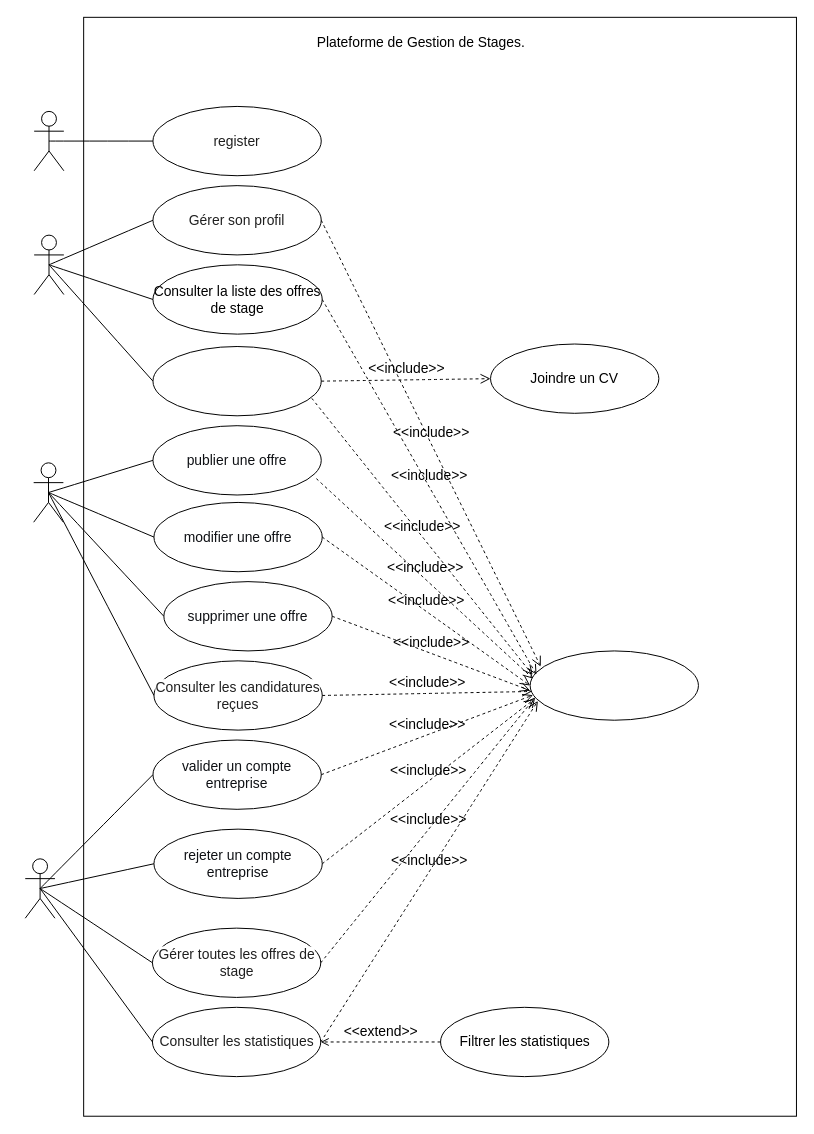
The diagram is 814 pixels wide and 1134 high, and some of its shapes have lost their labels. Each missing label, with the box of its shape:
Admin: (24, 858, 55, 918)
Authentification: (529, 650, 698, 720)
Entreprise: (33, 462, 63, 522)
Postuler à une offre: (152, 346, 321, 416)
visiteur: (33, 110, 64, 171)
Étudiant: (33, 234, 64, 295)
